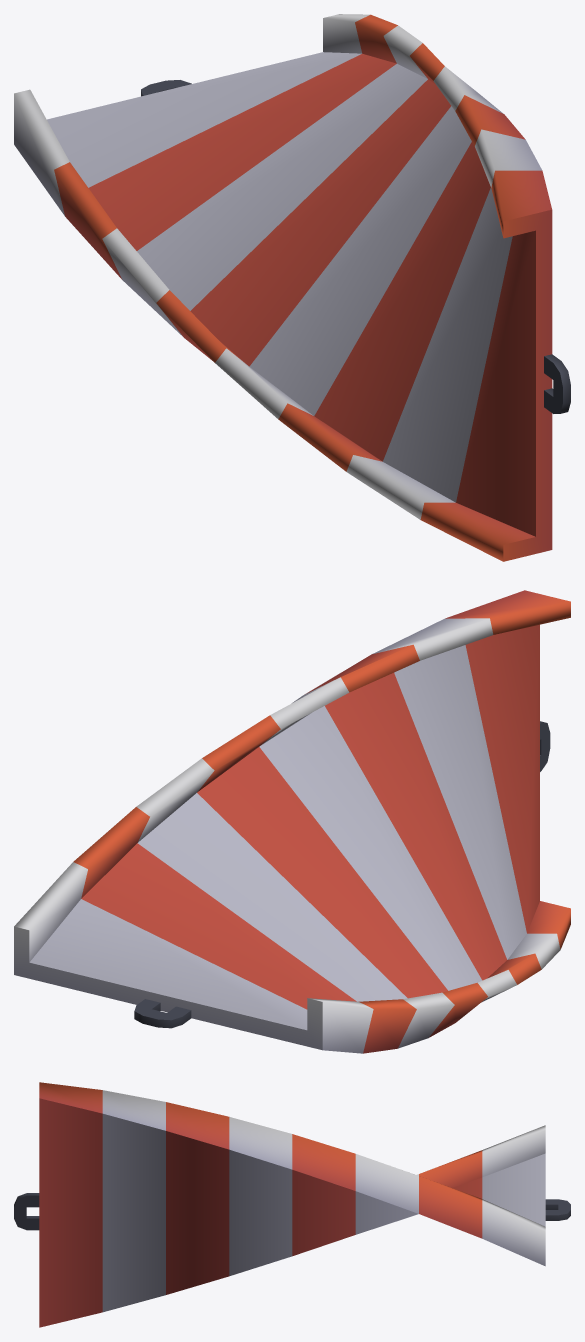
The model's file is track-striped-wide-straight-skew-right-side.glb.
3 renders of one model, top to bottom at view 1: azimuth 30°, elevation 25°; view 2: azimuth 150°, elevation 25°; view 3: azimuth 270°, elevation 25°, orthographic. The views are drawn at different scales.
Visible parts, largest first — view 1: track-striped-wide-straight-skew-right-side; view 2: track-striped-wide-straight-skew-right-side; view 3: track-striped-wide-straight-skew-right-side.
Part boxes in pixels (x1,y1,x2,y2): track-striped-wide-straight-skew-right-side: (14,14,570,561); track-striped-wide-straight-skew-right-side: (14,590,570,1053); track-striped-wide-straight-skew-right-side: (14,1082,570,1327).
Bounding box in the file's own units: 2.04 × 2.04 × 4.4.
